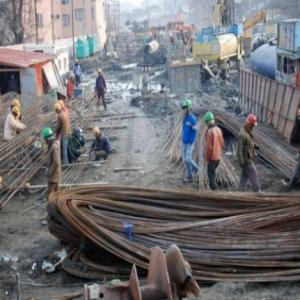red: (246, 115, 257, 132)
yellow: (12, 107, 21, 119), (94, 128, 101, 139), (55, 104, 62, 114), (70, 74, 75, 82), (99, 69, 103, 76)
